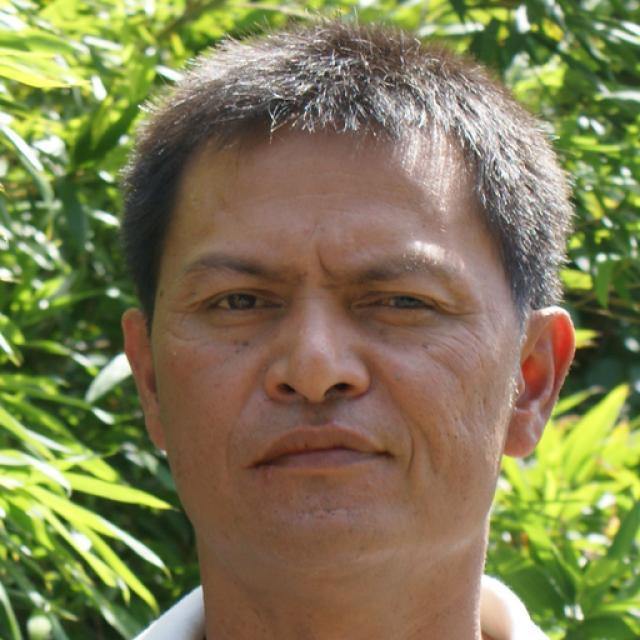anger: (156, 122, 514, 590)
